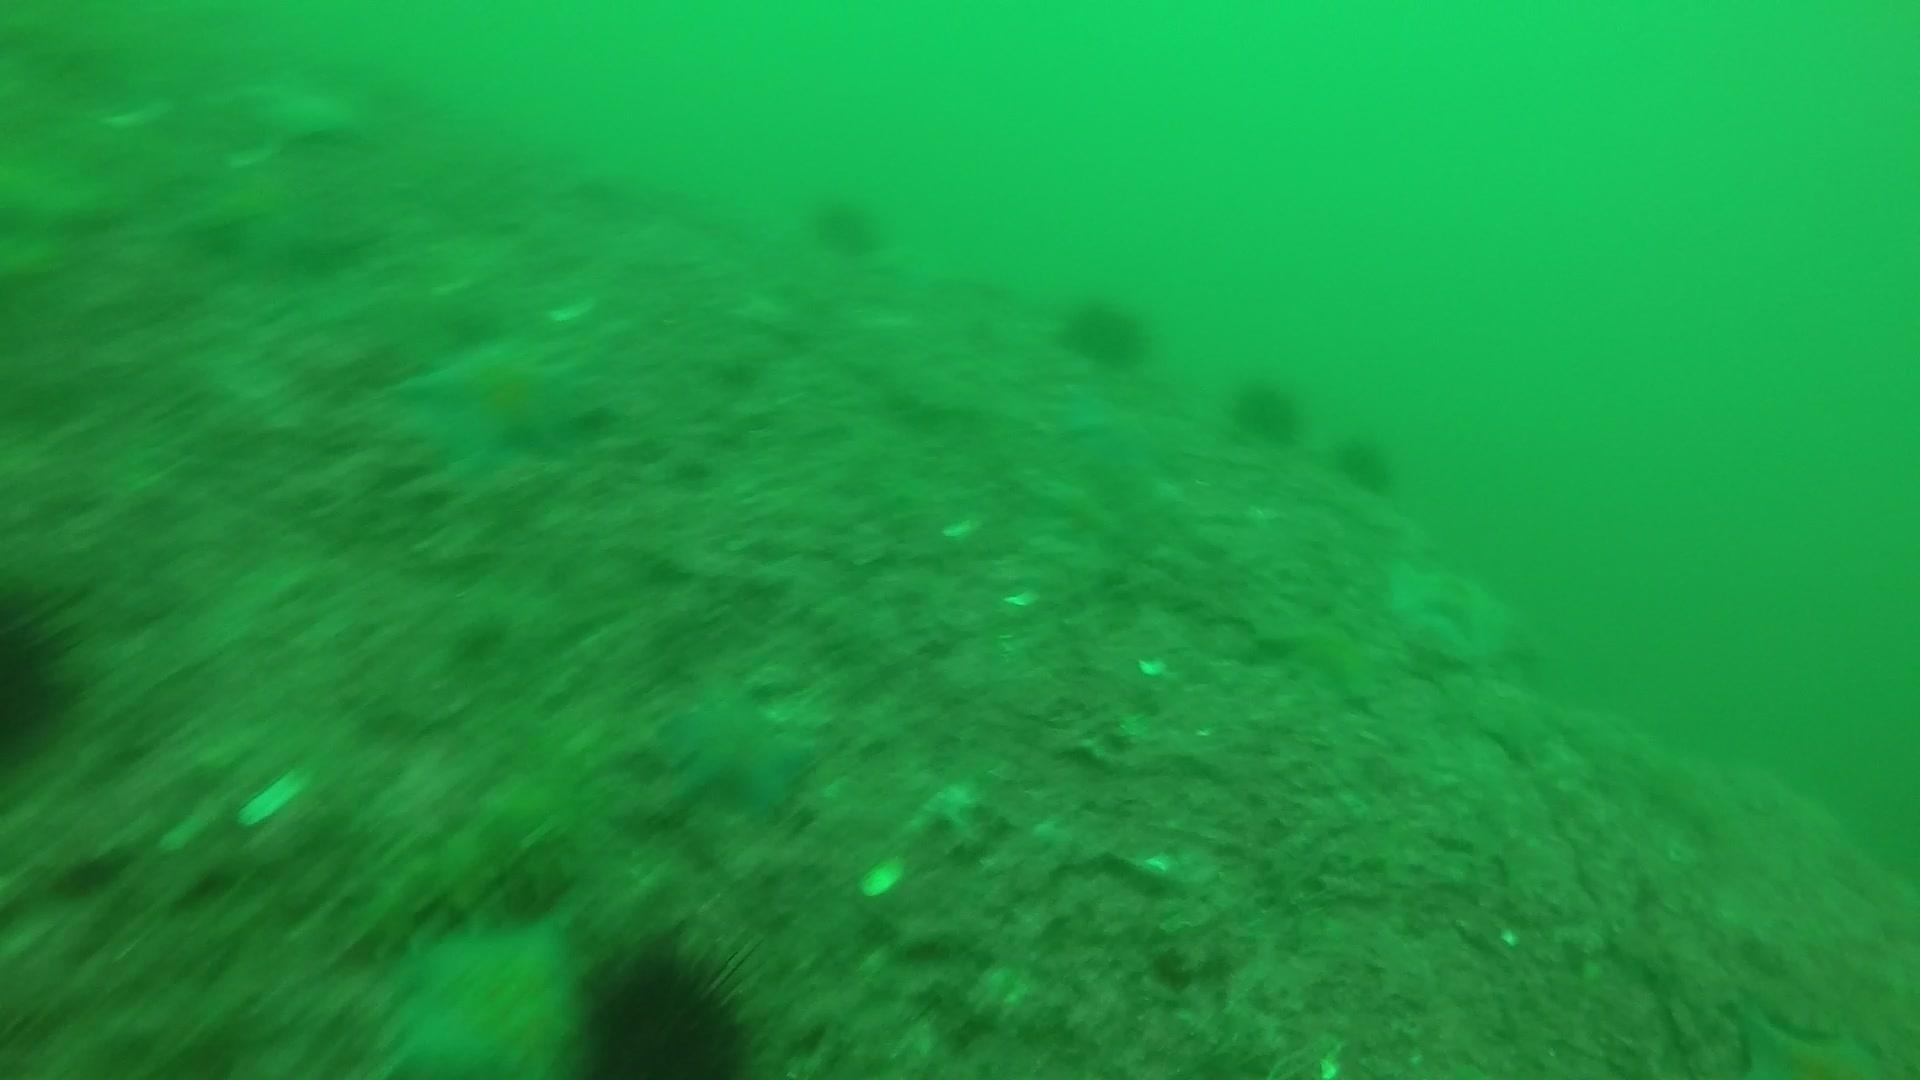echinus: (562, 930, 765, 1077), (0, 572, 90, 767), (1056, 289, 1156, 371), (1224, 369, 1308, 446), (807, 187, 887, 258), (1331, 427, 1400, 495)
starfish: (378, 902, 603, 1080), (389, 330, 607, 483), (645, 676, 825, 823), (1379, 549, 1524, 670), (1258, 603, 1393, 707), (222, 69, 375, 158), (1720, 993, 1888, 1073), (1054, 384, 1185, 484), (1462, 674, 1568, 767)
